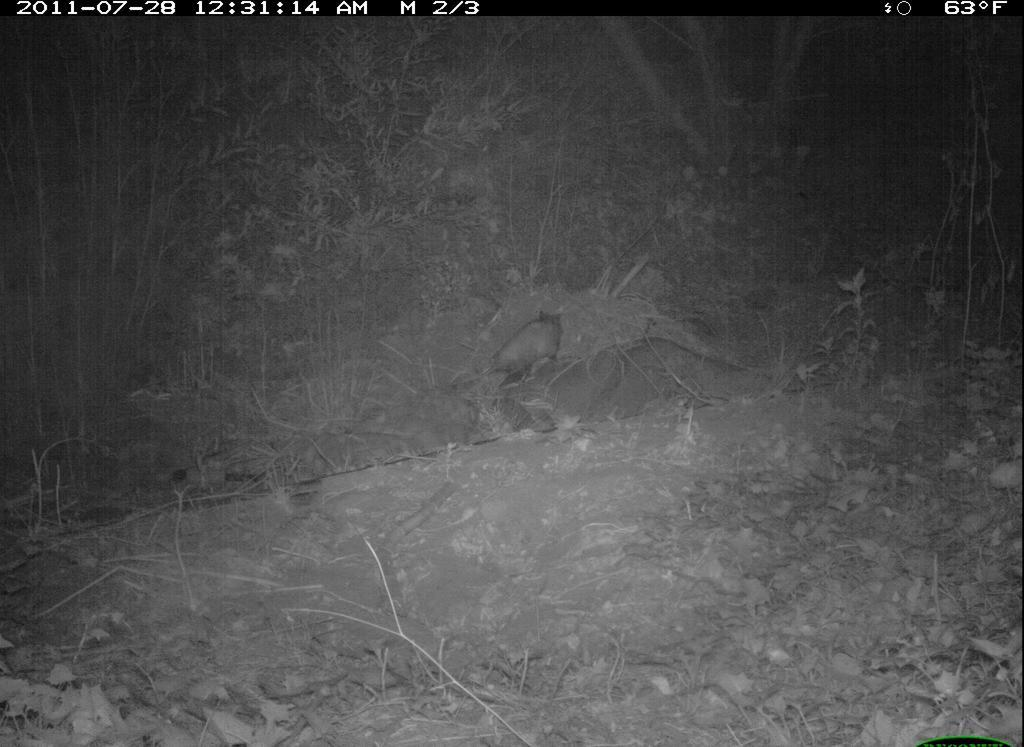opossum: (459, 303, 571, 400)
